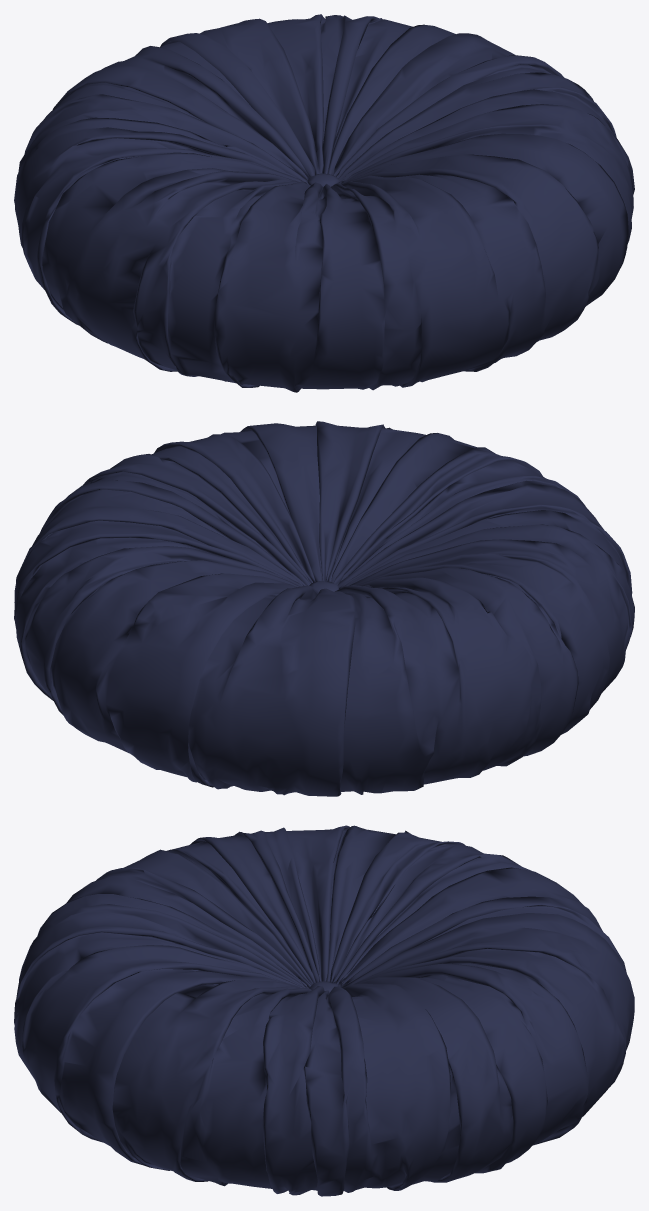
File: pouf.glb
3 views of the same model, one above another, from view 1: azimuth 30°, elevation 25°; view 2: azimuth 150°, elevation 25°; view 3: azimuth 270°, elevation 25° (orthographic).
Visible parts, largest first — view 1: SpecularSilkPouf; view 2: SpecularSilkPouf; view 3: SpecularSilkPouf.
Boxes of the visible parts, x1=… form: SpecularSilkPouf: x1=14, y1=14, x2=634, y2=392; SpecularSilkPouf: x1=14, y1=421, x2=634, y2=796; SpecularSilkPouf: x1=14, y1=825, x2=634, y2=1196.
Bounding box in the file's own units: 0.6099 × 0.1973 × 0.6095.
